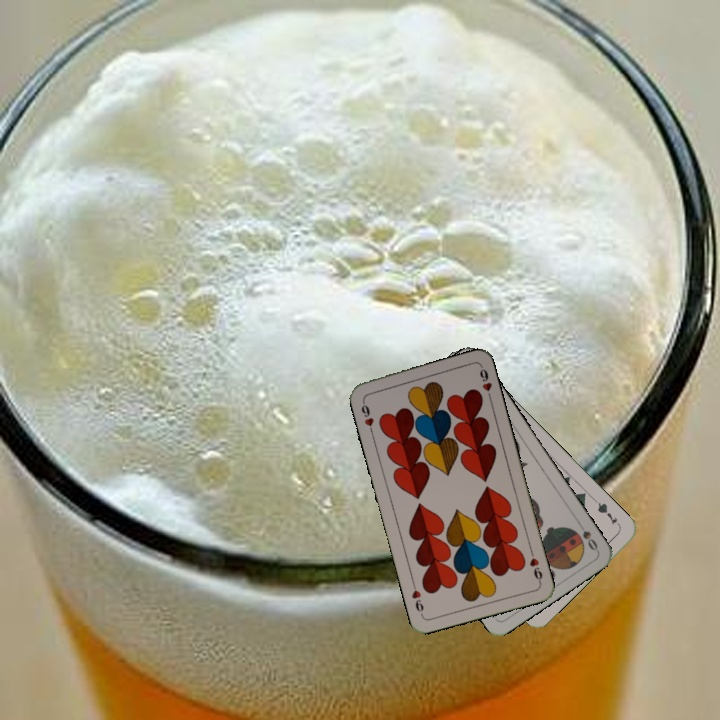G7: (591, 497, 623, 529)
H9: (525, 546, 545, 585), (357, 396, 376, 436)
SO: (573, 517, 600, 553)
